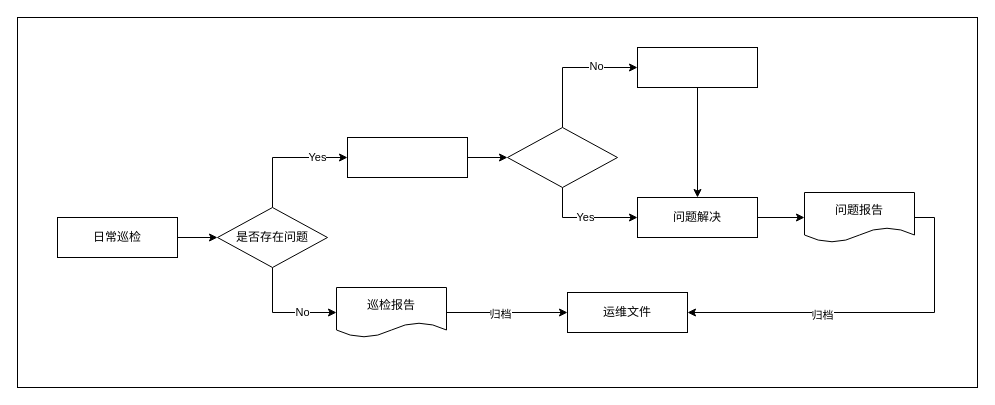
This 995x405 diagram has some shape labels left out. The box of each missing label's shape, as (x1, y1, x2, y2) in pixels:
可现场排查: (506, 126, 618, 188)
定位问题: (346, 136, 468, 178)
技术专家支持: (636, 46, 758, 88)
